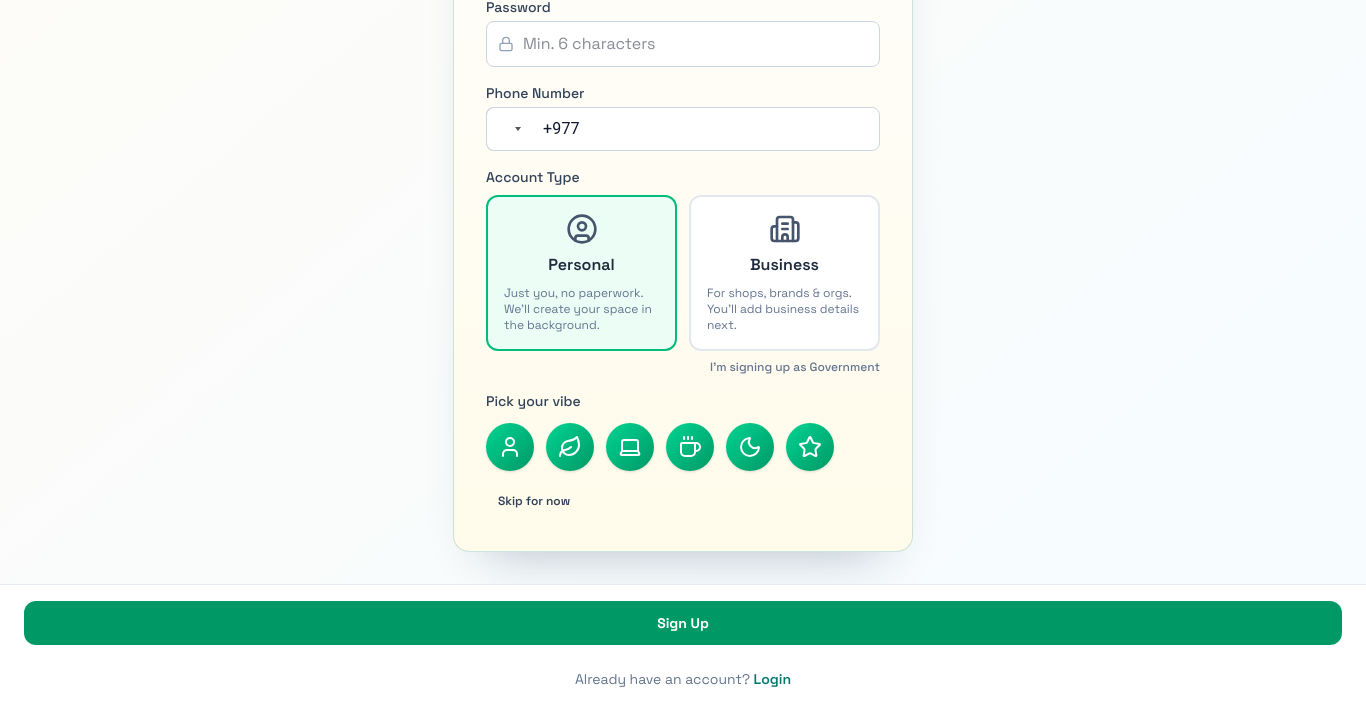
Test: Signup Component › shows validation errors if fields are empty
(page scrolled)
Click the button "Sign Up" at [683, 622], box x1=24 y1=600 x2=1342 y2=644
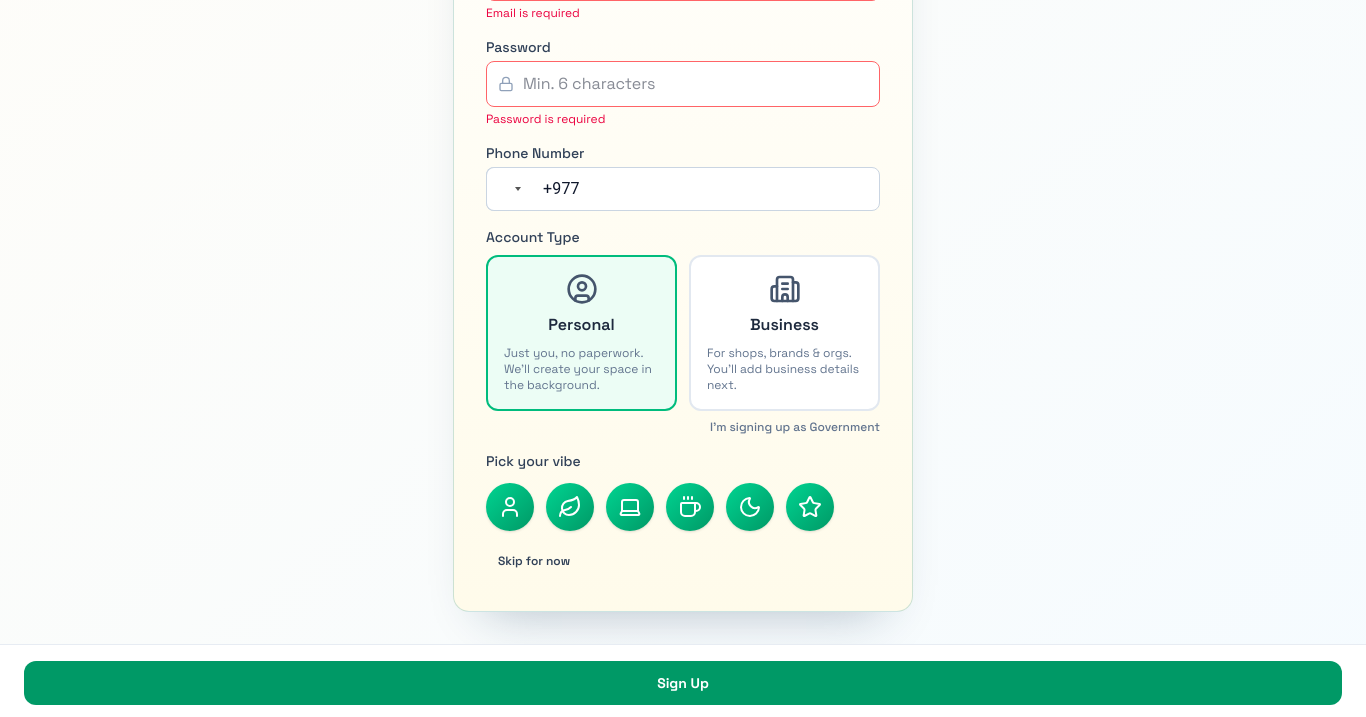
Expected: the text "Email is required" is shown, x1=486 y1=4 x2=580 y2=20
Expected: the text "Password is required" is shown, x1=486 y1=110 x2=605 y2=126
